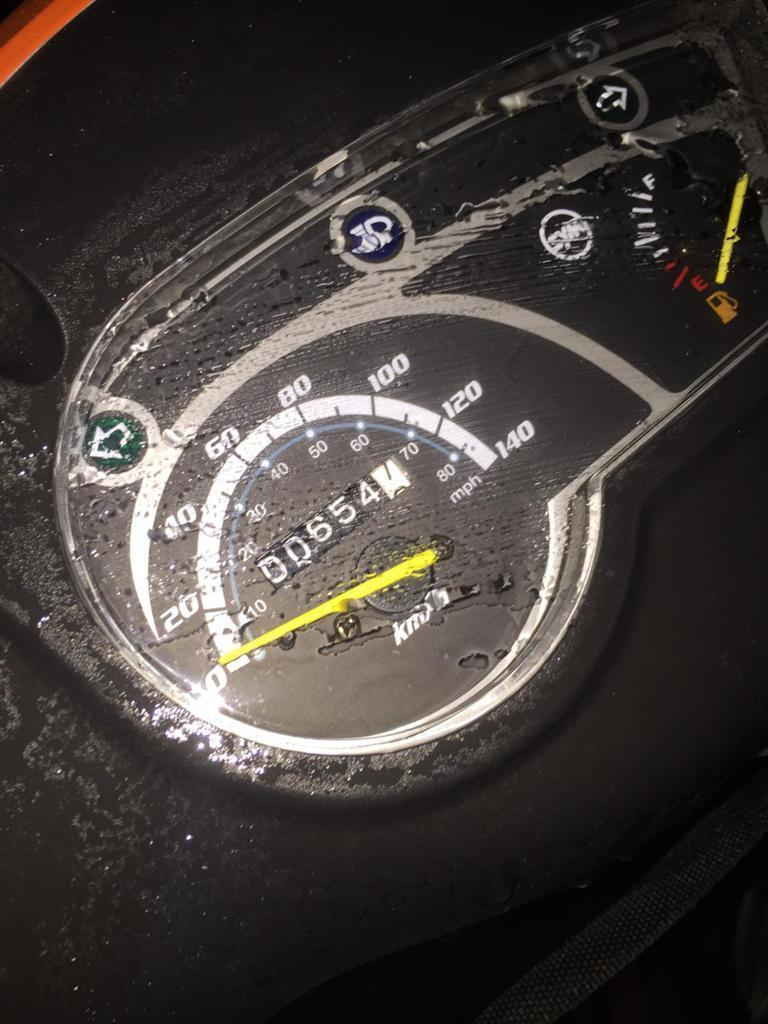0: (281, 535, 313, 565), (258, 554, 287, 583), (276, 460, 290, 475), (253, 502, 267, 517), (246, 540, 259, 554)
3: (247, 509, 260, 524)
4: (355, 477, 383, 506), (268, 468, 282, 480)
5: (325, 496, 359, 523)
6: (305, 514, 333, 543)
7: (373, 459, 396, 484)
odometer: (246, 455, 426, 595)
